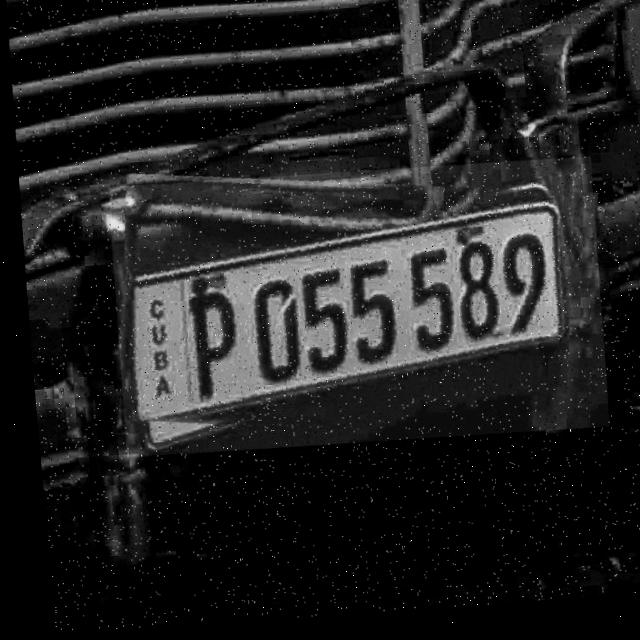LicensePlate: (100, 157, 605, 466)
